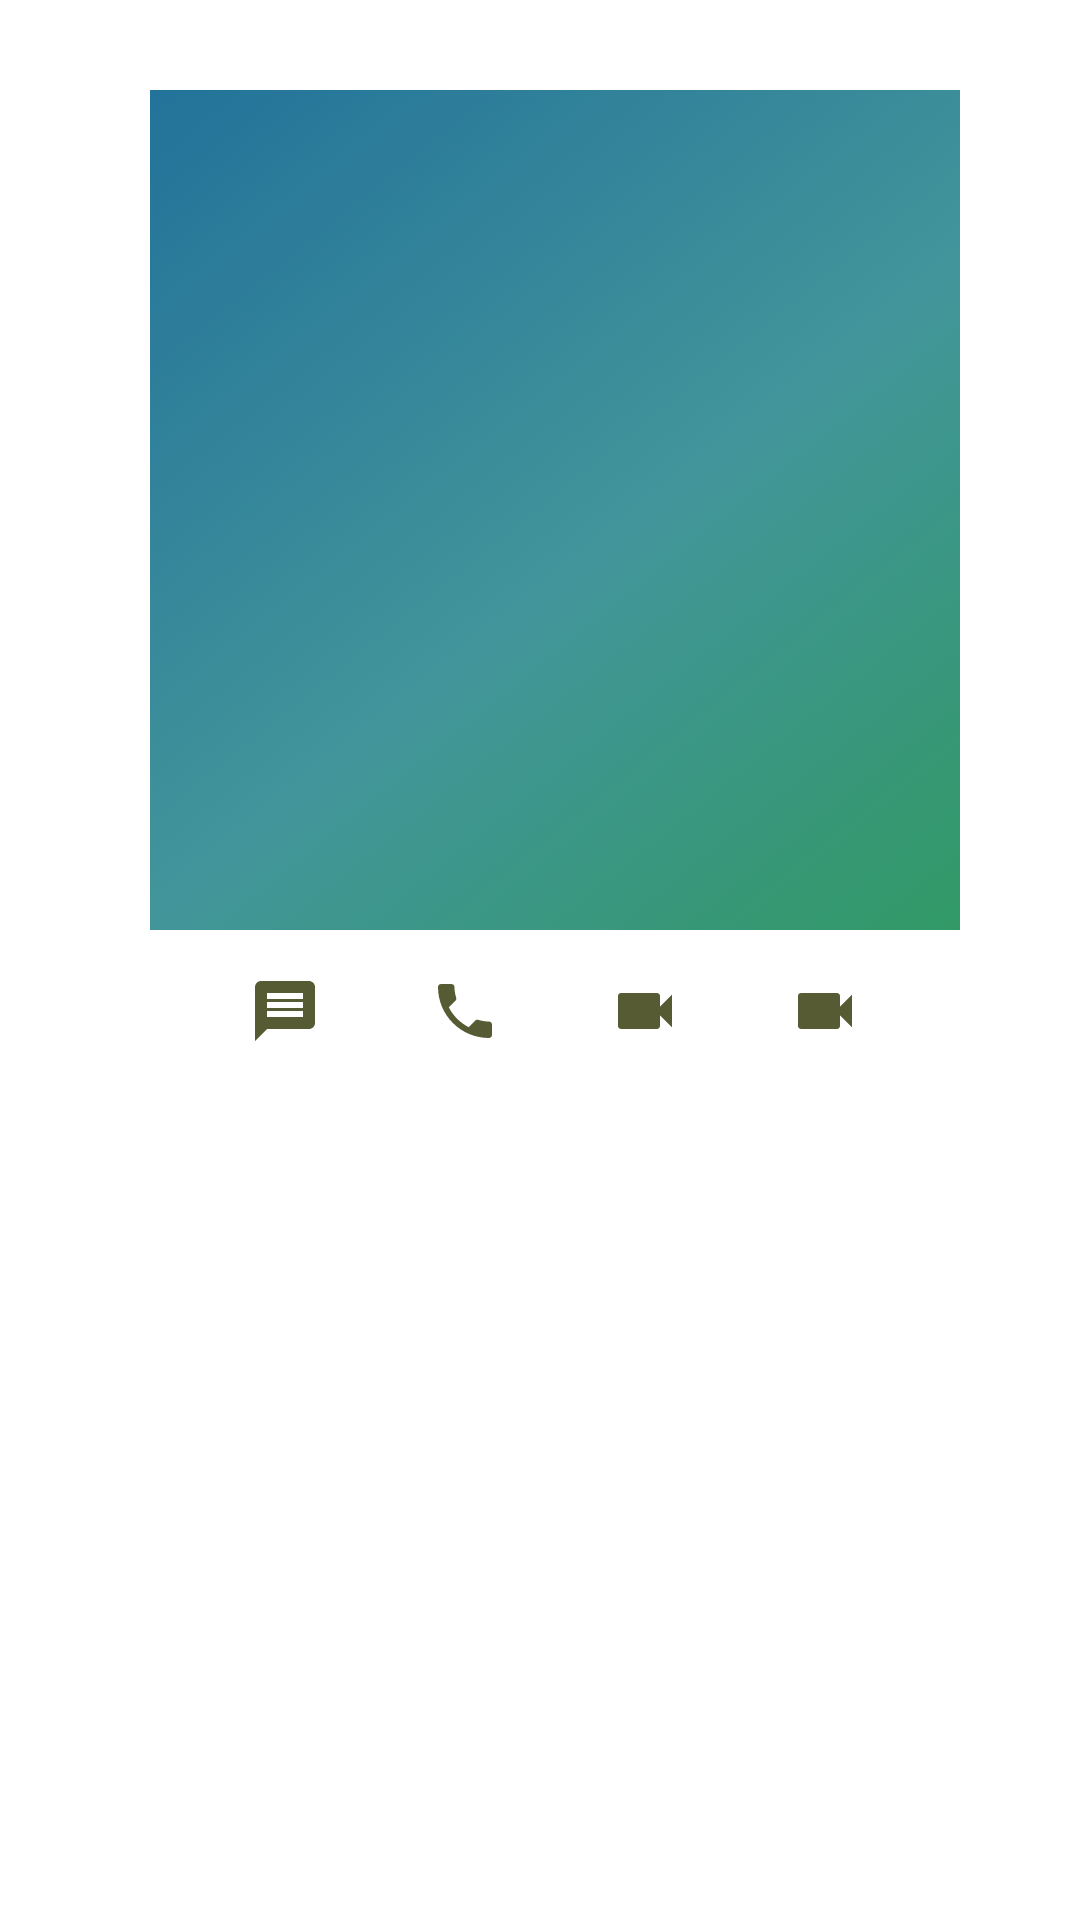

Where icons sit on this 1080px×1920px app screen, as [x1=x1, y1=y1, x2=x2, y2=y2]:
call: [x1=438, y1=984, x2=492, y2=1038]
message: [x1=255, y1=981, x2=315, y2=1041]
videocam: [x1=618, y1=993, x2=672, y2=1029], [x1=798, y1=993, x2=852, y2=1029]
